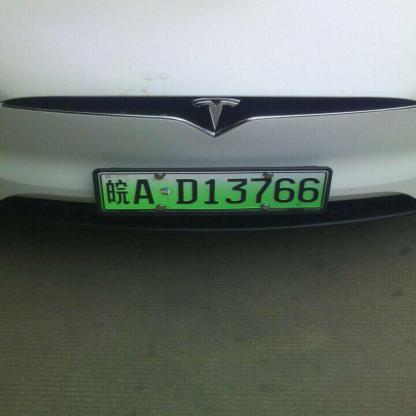lp: (102, 172, 326, 207)
